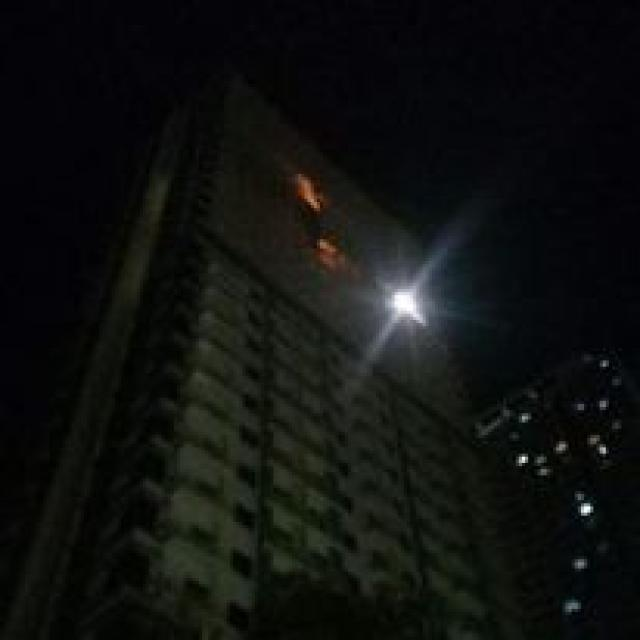Fire: (295, 169, 325, 211), (312, 238, 346, 271)
